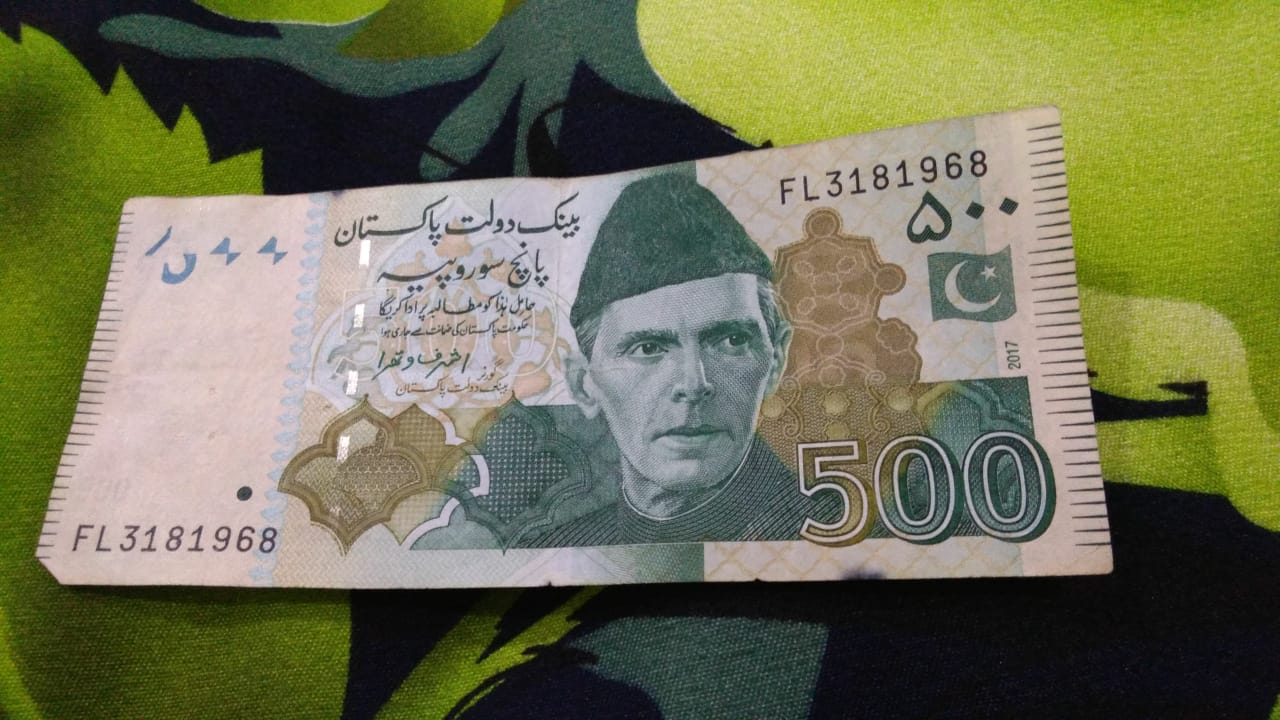500 rupee: (60, 132, 1120, 619)
